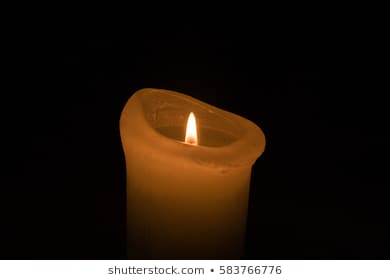Fire: (176, 107, 203, 149)
